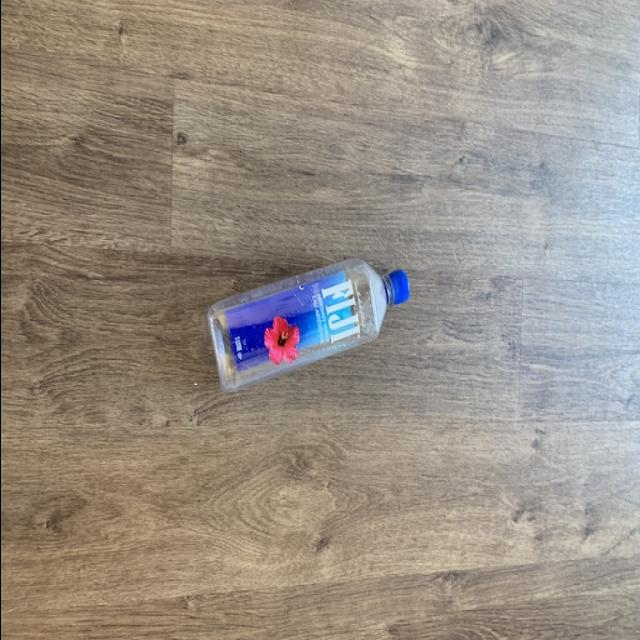litter: (202, 255, 406, 396)
